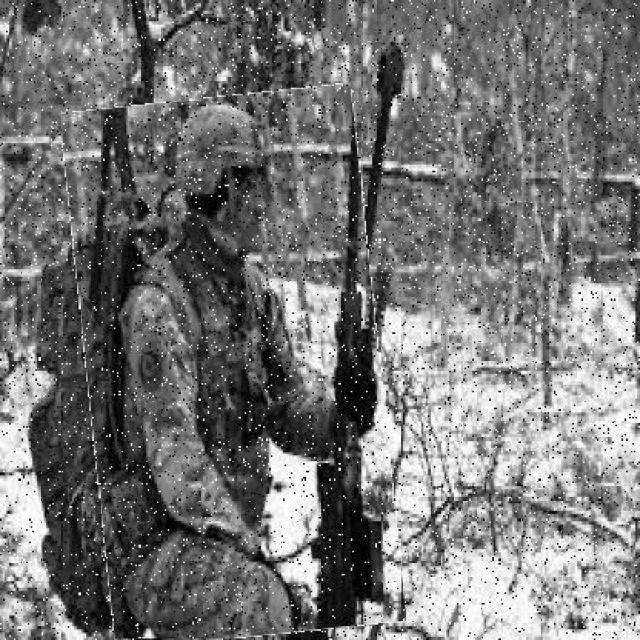Person: (74, 91, 394, 640)
